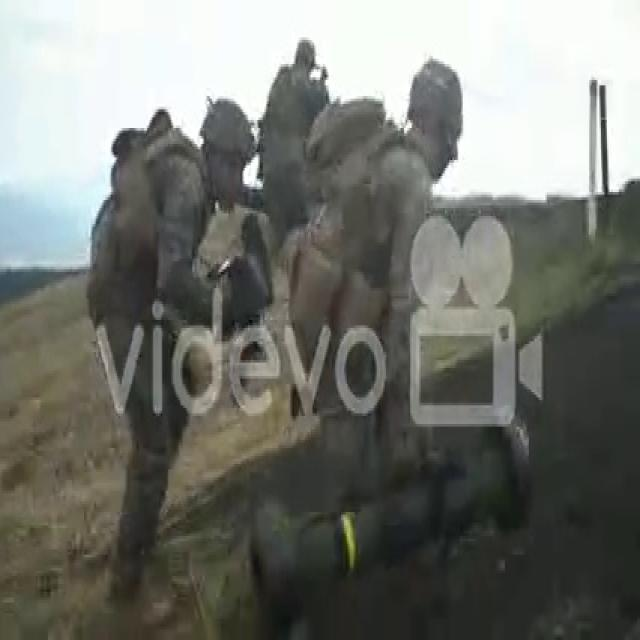bazooka: (248, 397, 539, 640)
